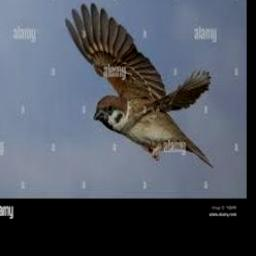Sparrow: (64, 3, 214, 169)
